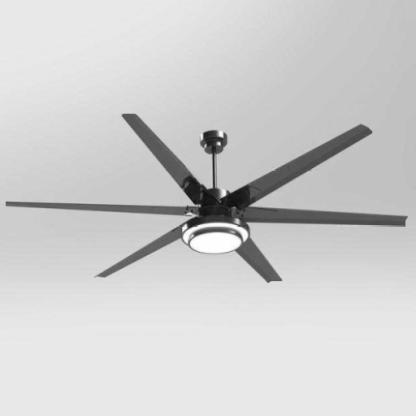ceiling-fan: (6, 114, 406, 282)
